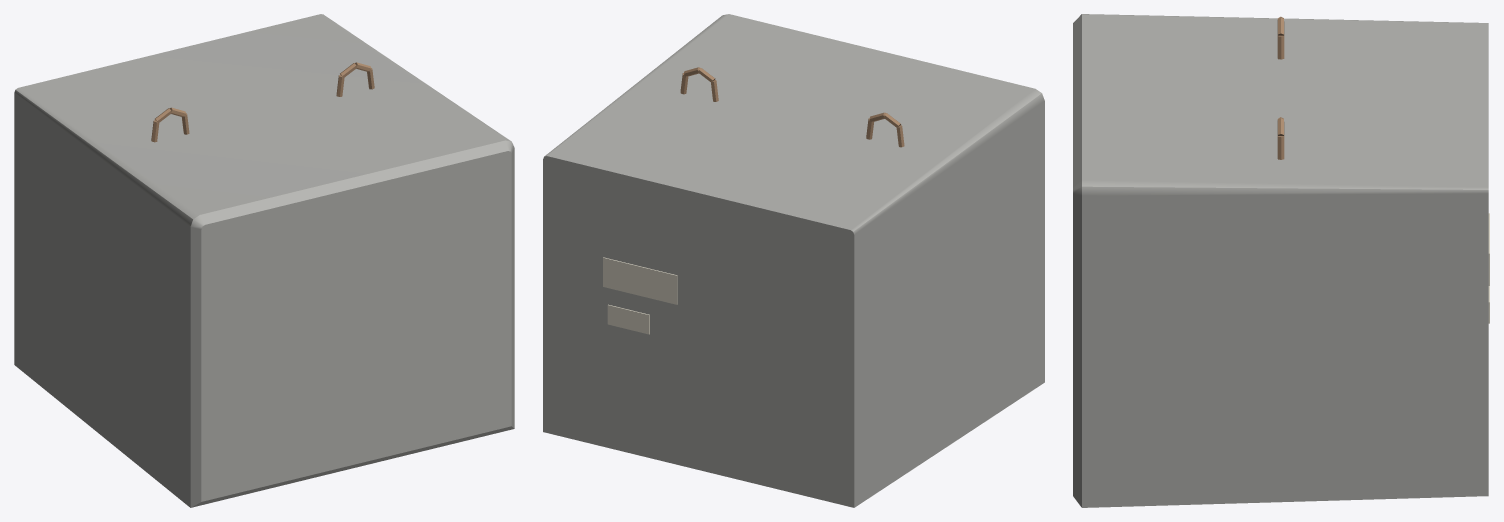
The model's file is road_block.glb.
3 views of the same model, side by side, from view 1: azimuth 30°, elevation 25°; view 2: azimuth 150°, elevation 25°; view 3: azimuth 270°, elevation 25° (orthographic). The views are drawn at different scales.
Parts seen in each view (by area): view 1: static; view 2: static; view 3: static.
Part boxes in pixels (x1,y1,x2,y2): static: [14, 14, 514, 507]; static: [543, 14, 1044, 507]; static: [1073, 14, 1489, 507].
Bounding box in the file's own units: 1.4 × 1.31 × 1.4.
